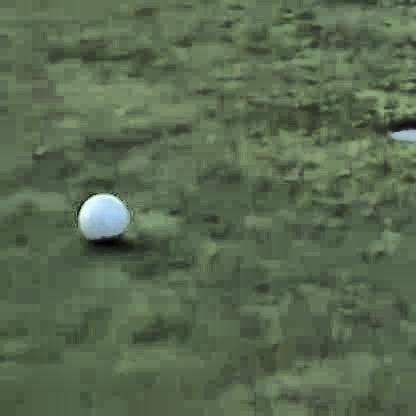golfball: (73, 187, 124, 241)
